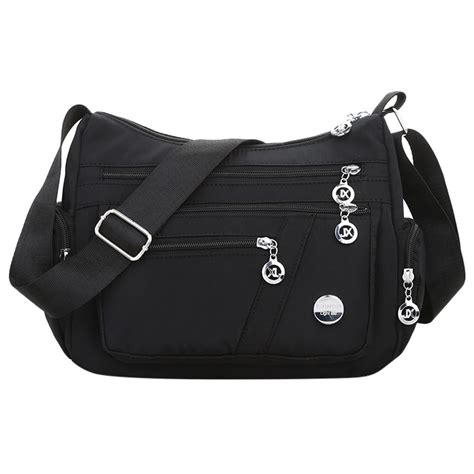nylon: (9, 107, 464, 377)
